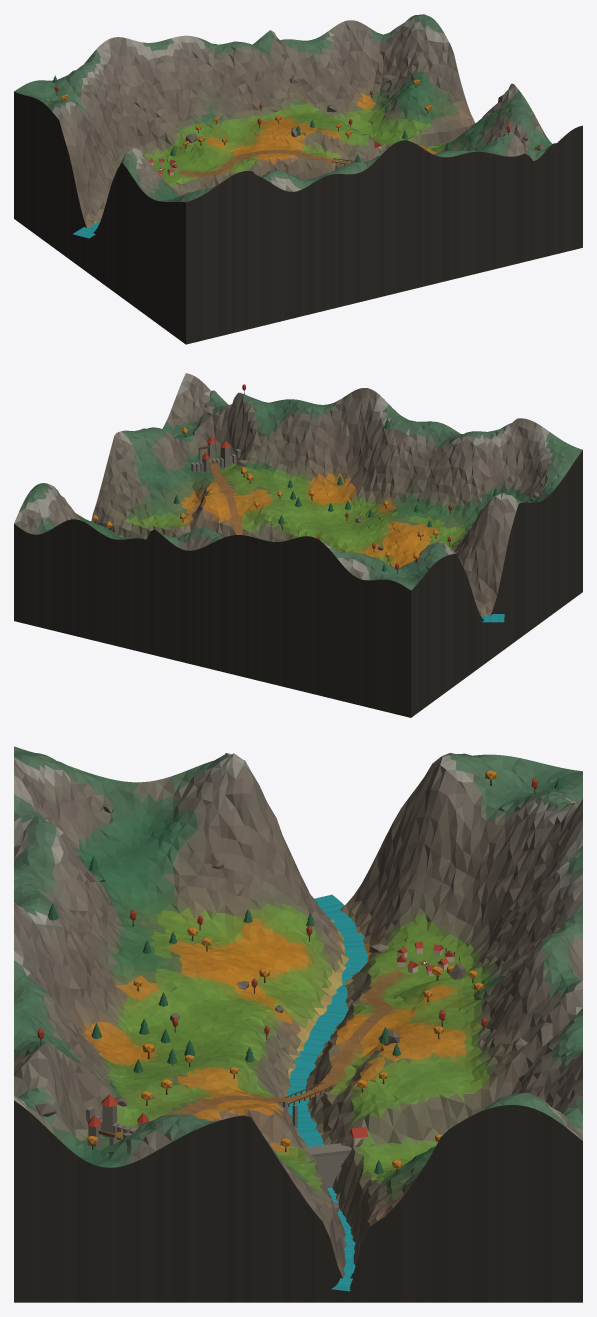
3 renders of one model, top to bottom at view 1: azimuth 30°, elevation 25°; view 2: azimuth 150°, elevation 25°; view 3: azimuth 270°, elevation 25°, orthographic. The views are drawn at different scales.
Parts seen in each view (by area): view 1: edge_skirt, ground_valley, trees, walk_road, rocks; view 2: edge_skirt, ground_valley, trees, clifftown, walk_road; view 3: ground_valley, edge_skirt, water_river, trees, walk_road, rocks, clifftown, dam, village, walk_village_green.
Boxes of the visible parts, box(x1,y1,x2,y2) form: edge_skirt: box(14, 91, 582, 344); ground_valley: box(14, 14, 564, 228); trees: box(53, 75, 535, 177); walk_road: box(160, 150, 350, 176); rocks: box(174, 74, 545, 190); edge_skirt: box(14, 450, 582, 717); ground_valley: box(14, 373, 582, 615); trees: box(92, 384, 498, 573); clifftown: box(191, 436, 240, 471); walk_road: box(209, 458, 243, 535); ground_valley: box(14, 746, 582, 1277); edge_skirt: box(14, 1100, 582, 1302); water_river: box(287, 894, 368, 1291); trees: box(37, 770, 562, 1174); walk_road: box(114, 961, 427, 1137); rocks: box(35, 805, 527, 1212); clifftown: box(86, 1094, 149, 1147); dam: box(303, 1127, 368, 1187); village: box(397, 941, 460, 977); walk_village_green: box(393, 950, 456, 976).
Bounding box in the file's own units: 130 × 46 × 90.
